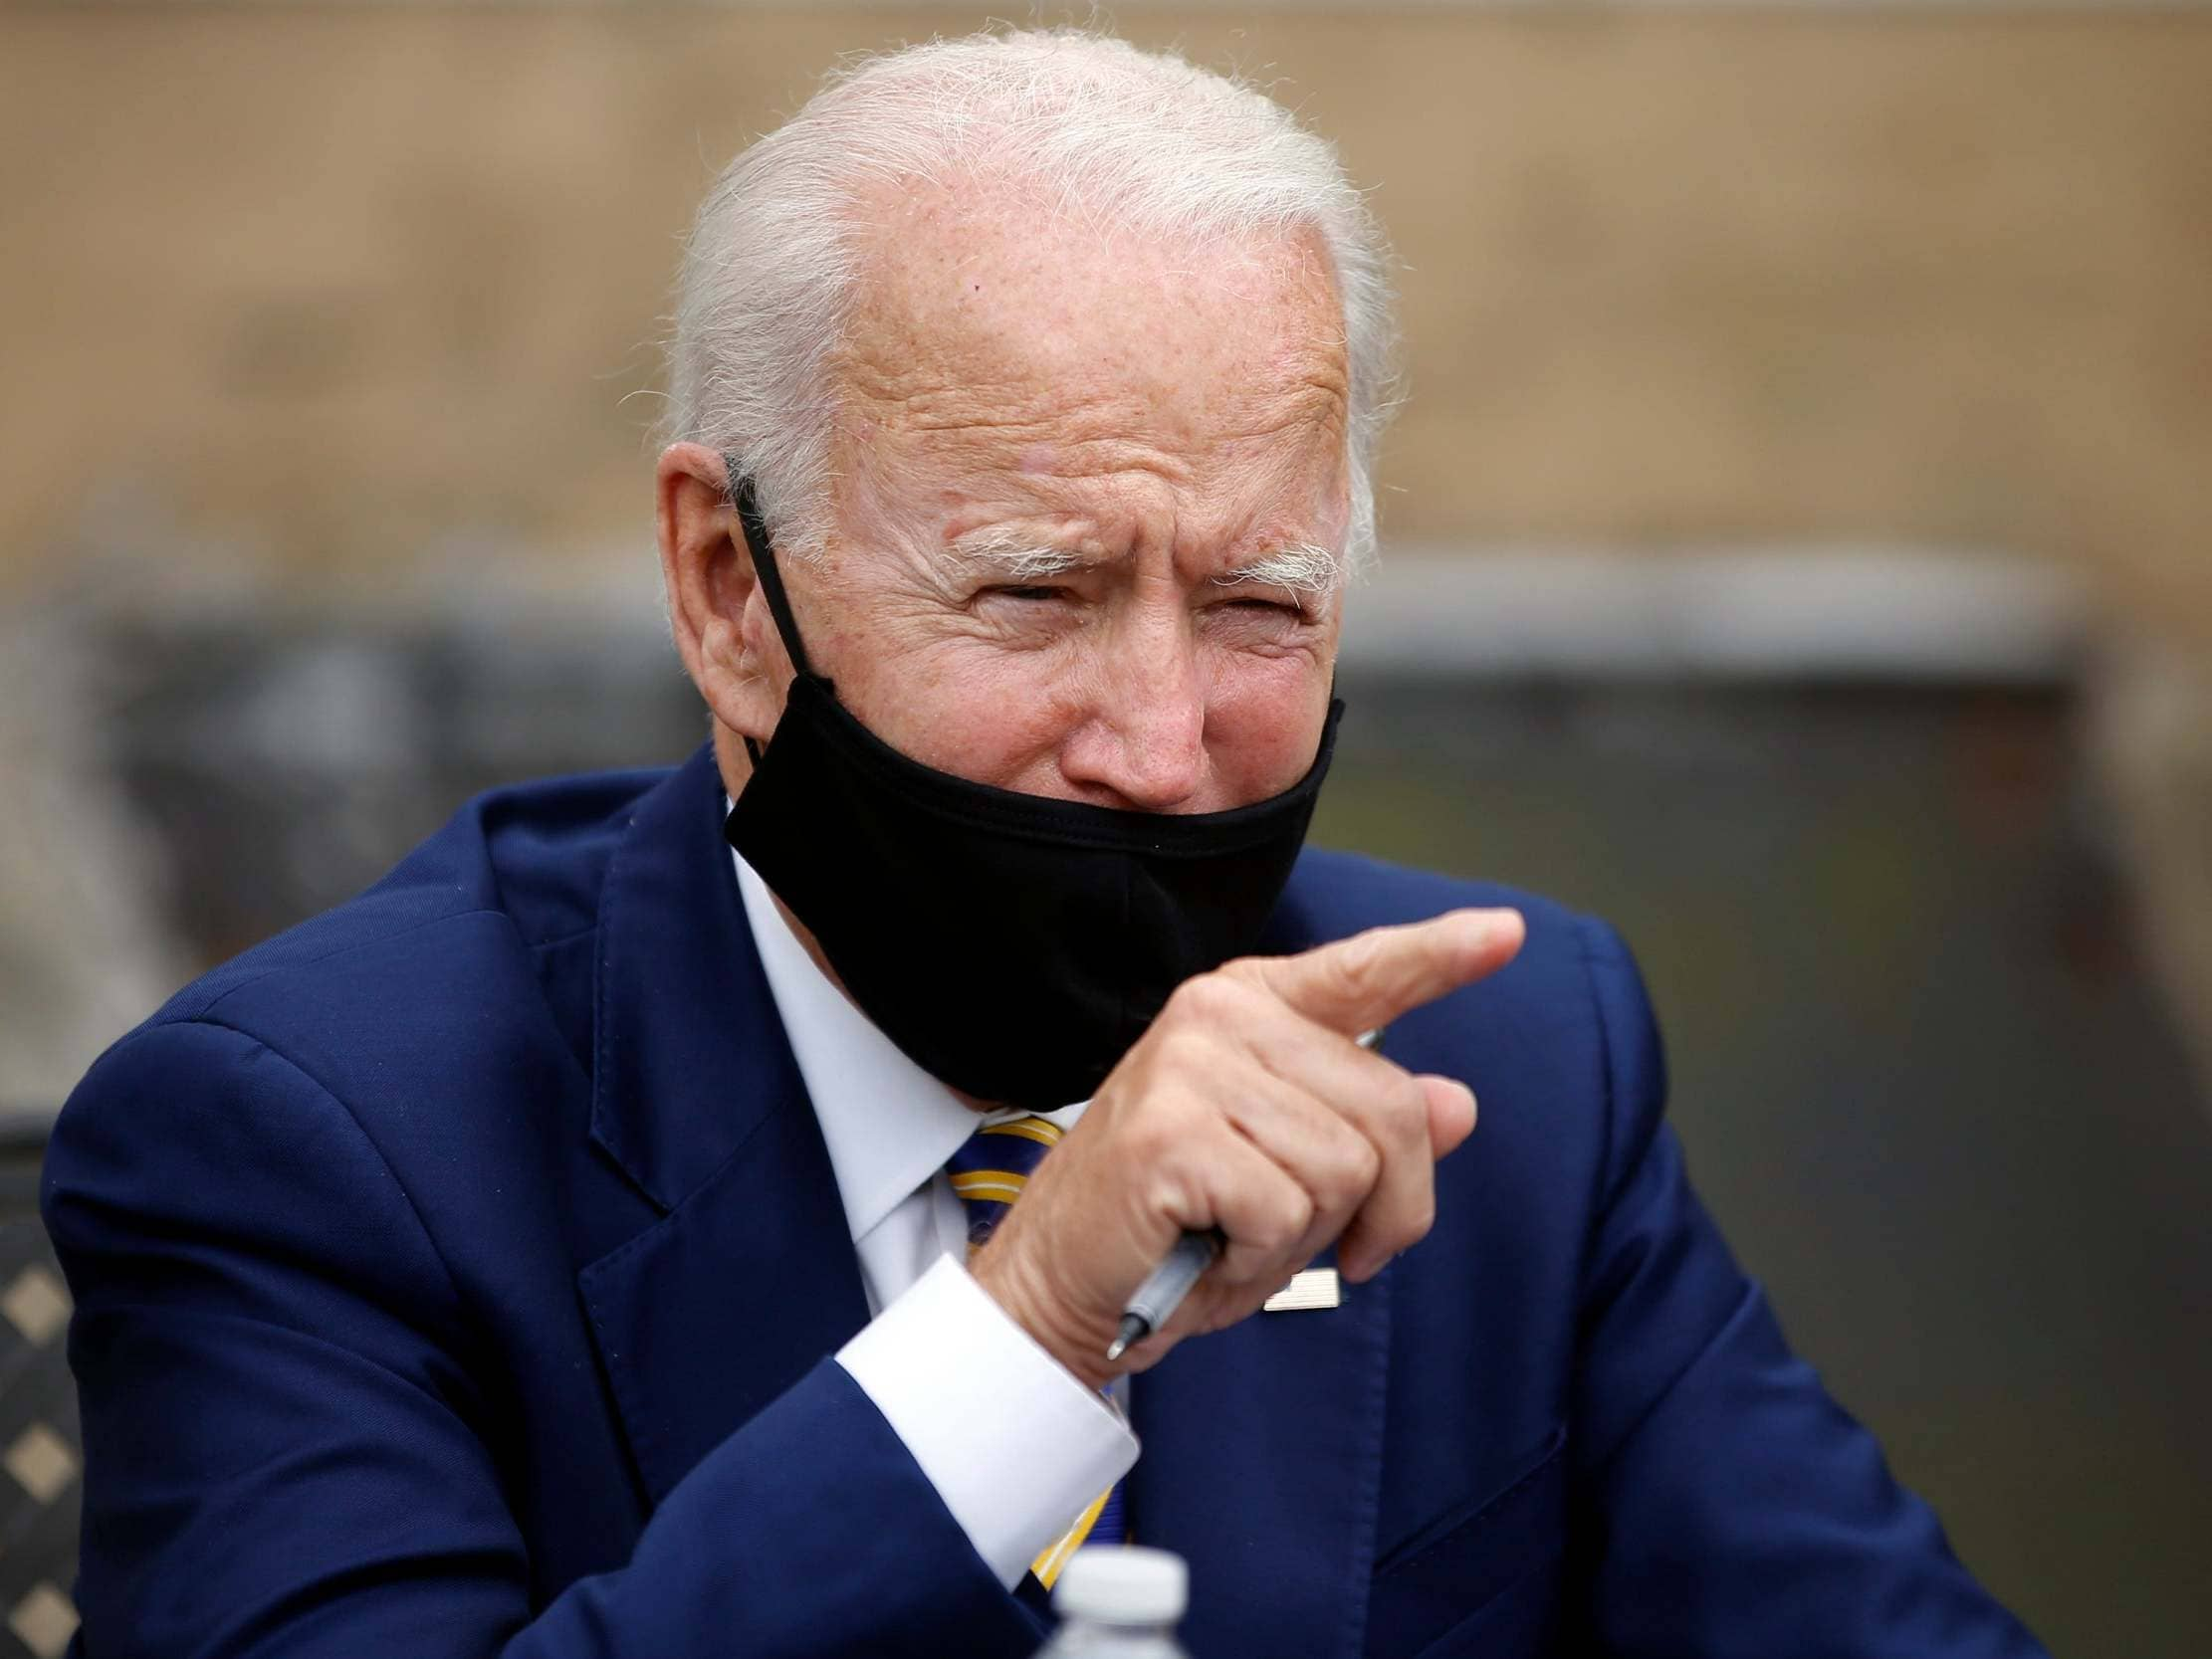with_incorrect_mask: (737, 173, 1337, 1111)
